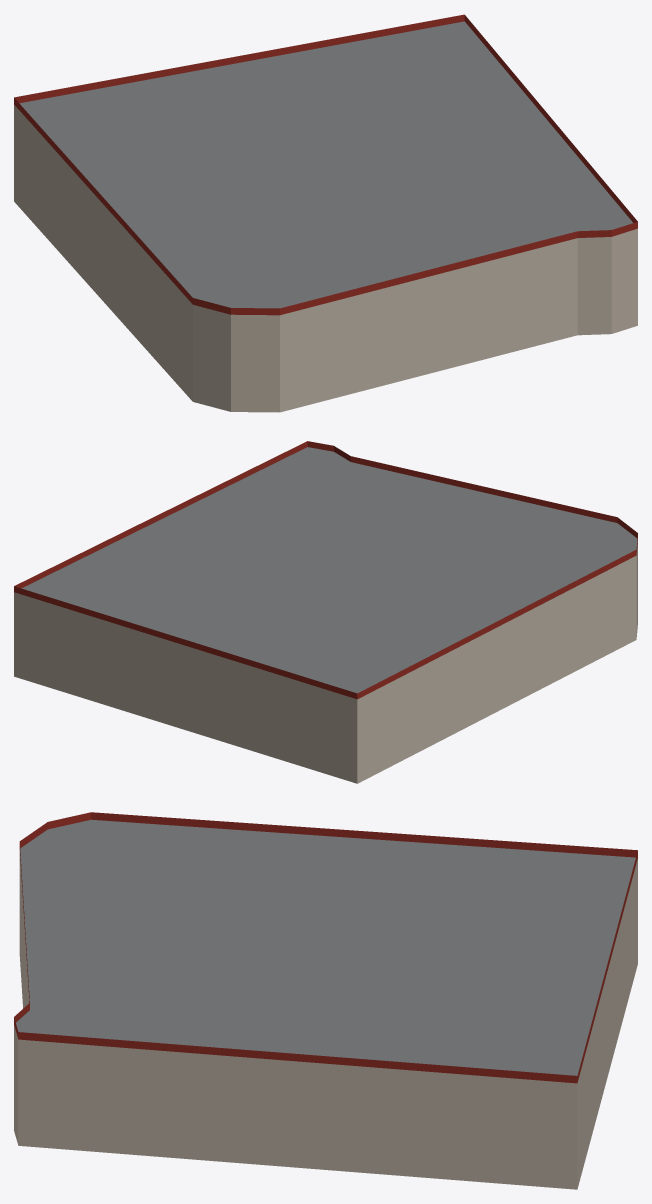
The model's file is ciputra-seraya-mall-lod1.glb.
3 renders of one model, top to bottom at view 1: azimuth 30°, elevation 25°; view 2: azimuth 150°, elevation 25°; view 3: azimuth 270°, elevation 25°, orthographic. The views are drawn at different scales.
Visible parts, largest first — view 1: ciputra-seraya-mall_LOD1; view 2: ciputra-seraya-mall_LOD1; view 3: ciputra-seraya-mall_LOD1.
Boxes of the visible parts, x1,y1,x2,y2 form: ciputra-seraya-mall_LOD1: (14, 14, 637, 412); ciputra-seraya-mall_LOD1: (14, 441, 637, 783); ciputra-seraya-mall_LOD1: (14, 812, 637, 1189).
Size of the model in its own units: 97.9 by 19.7 by 97.9.
